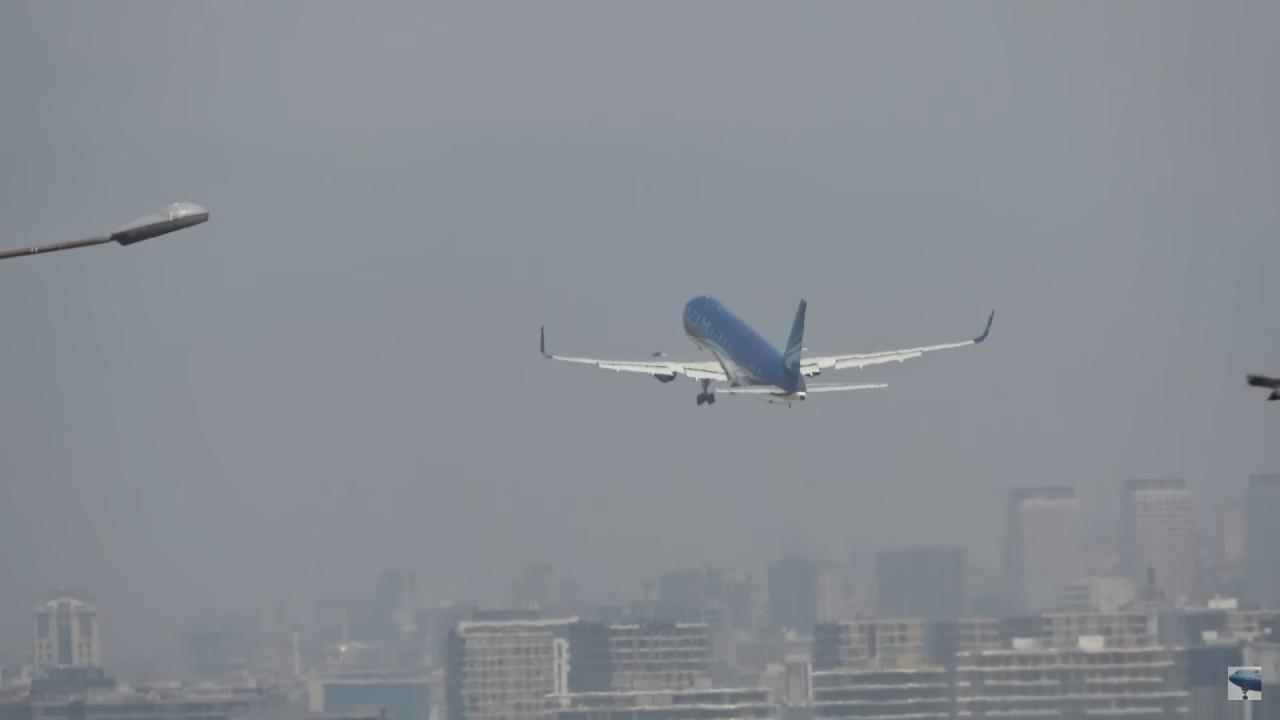Airplane: (521, 279, 1009, 418)
